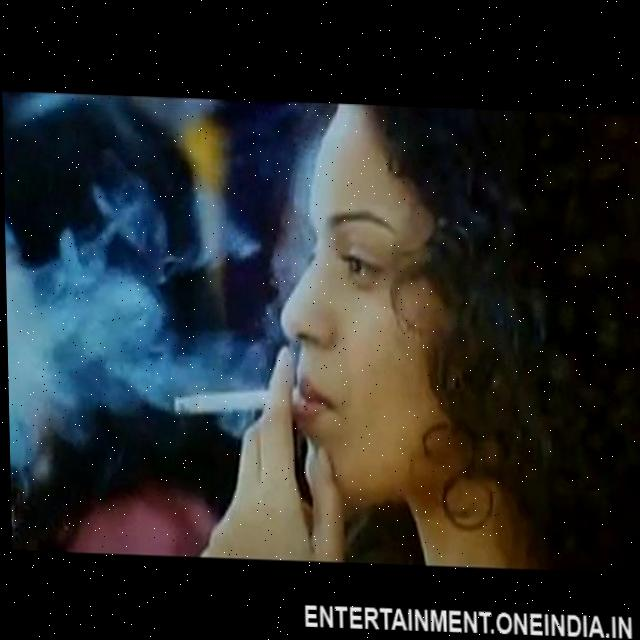cigarette: (170, 391, 312, 416)
